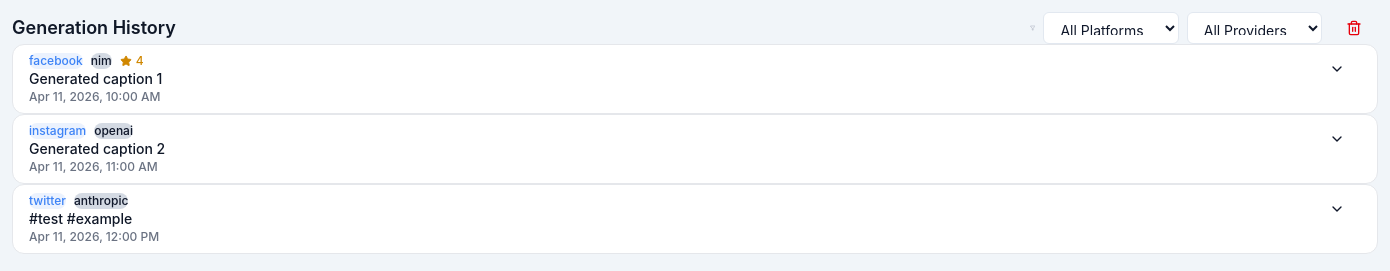
Test case: GenerationHistory › filtering › filters by platform
This screenshot has width=1390, height=271.
Select "Instagram" in the dropdown named "filter by platform" at (1111, 28), box [1043,12,1179,44]
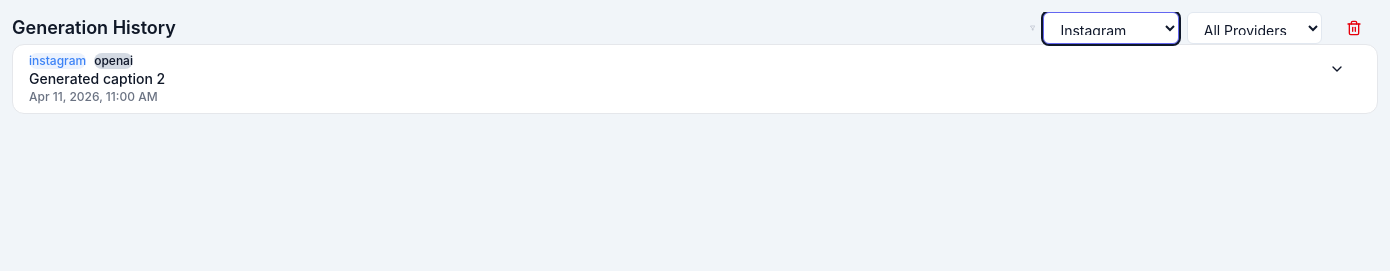
Expected: the text "Generated caption 2" is shown, [29,70,165,87]
Expected: the button "Generated caption 1" is gone
